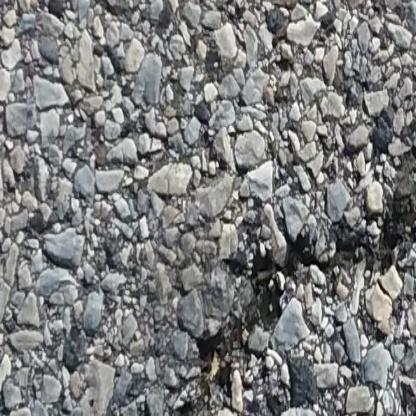Cracks: (81, 153, 416, 416)
